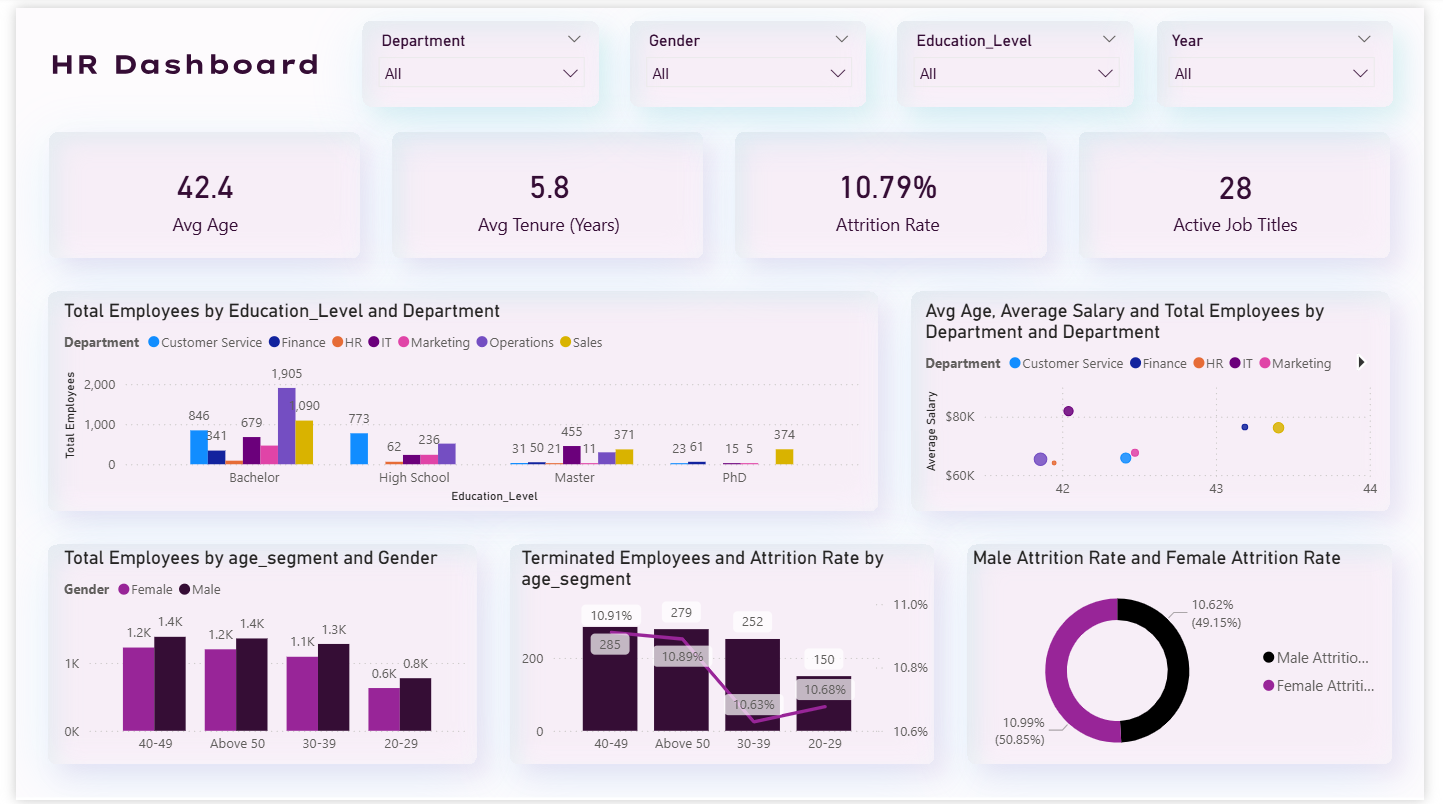

What the dashboard file says about the page in this screenshot:
{"tool":"powerbi","page":{"name":"Page 2","canvas":[1280,720],"ordinal":1},"visuals":[{"type":"clusteredColumnChart","fields":{"Category":["HR_dataset.age_segment"],"Y":["HR_dataset.Total Employees"],"Series":["HR_dataset.Gender"]},"box":[38.8,490,376.2,197.5],"z":0},{"type":"clusteredColumnChart","fields":{"Category":["HR_dataset.Education_Level"],"Y":["HR_dataset.Total Employees"],"Series":["HR_dataset.Department"]},"box":[38.8,265,736.2,190],"z":1000},{"type":"scatterChart","fields":{"Y":["HR_dataset.Average Salary"],"X":["HR_dataset.Avg Age"],"Size":["HR_dataset.Total Employees"],"Category":["HR_dataset.Department"],"Series":["HR_dataset.Department"]},"box":[821.2,265,421.2,190],"z":2000},{"type":"lineStackedColumnComboChart","fields":{"Category":["HR_dataset.age_segment"],"Y":["HR_dataset.Terminated Employees"],"Y2":["HR_dataset.Attrition Rate"]},"box":[455,490,380,197.5],"z":3000},{"type":"card","fields":{"Values":["HR_dataset.Avg Age"]},"box":[38.6,120.5,267,103.4],"z":3001},{"type":"card","fields":{"Values":["HR_dataset.Avg Tenure (Years)"]},"box":[351.1,120.5,267,103.4],"z":3002},{"type":"card","fields":{"Values":["HR_dataset.Attrition Rate"]},"box":[659.1,120.5,267,103.4],"z":3003},{"type":"card","fields":{"Values":["HR_dataset.Active Job Titles"]},"box":[975,120,267.5,103.8],"z":3004},{"type":"donutChart","fields":{"Y":["HR_dataset.Male Attrition Rate","HR_dataset.Female Attrition Rate"]},"box":[865,490,386.2,206.2],"z":3005},{"type":"slicer","fields":{"Values":["HR_dataset.Department"]},"box":[319.7,16.5,207.2,65.9],"z":3006},{"type":"slicer","fields":{"Values":["HR_dataset.Gender"]},"box":[562.6,16.5,207.2,65.9],"z":3007},{"type":"slicer","fields":{"Values":["HR_dataset.Education_Level"]},"box":[805.5,16.5,207.2,65.9],"z":3008},{"type":"slicer","fields":{"Values":["HR_dataset.Hiredate.Variation.Date Hierarchy.Year"]},"box":[1037.4,16.5,207.2,65.9],"z":3009}]}

Visuals, with their boxes in screenshot pixels (x1, y1, x2, y2), scaled from the page's 1280x720 canvas onto the 1443x804 screenshot:
clusteredColumnChart - HR_dataset.age_segment x HR_dataset.Total Employees: {"x1": 44, "y1": 547, "x2": 468, "y2": 768}
clusteredColumnChart - HR_dataset.Education_Level x HR_dataset.Total Employees: {"x1": 44, "y1": 296, "x2": 874, "y2": 508}
scatterChart - HR_dataset.Average Salary x HR_dataset.Avg Age: {"x1": 926, "y1": 296, "x2": 1401, "y2": 508}
lineStackedColumnComboChart - HR_dataset.age_segment x HR_dataset.Terminated Employees: {"x1": 513, "y1": 547, "x2": 941, "y2": 768}
card - HR_dataset.Avg Age: {"x1": 44, "y1": 135, "x2": 345, "y2": 250}
card - HR_dataset.Avg Tenure (Years): {"x1": 396, "y1": 135, "x2": 697, "y2": 250}
card - HR_dataset.Attrition Rate: {"x1": 743, "y1": 135, "x2": 1044, "y2": 250}
card - HR_dataset.Active Job Titles: {"x1": 1099, "y1": 134, "x2": 1401, "y2": 250}
donutChart - HR_dataset.Male Attrition Rate x HR_dataset.Female Attrition Rate: {"x1": 975, "y1": 547, "x2": 1411, "y2": 777}
slicer - HR_dataset.Department: {"x1": 360, "y1": 18, "x2": 594, "y2": 92}
slicer - HR_dataset.Gender: {"x1": 634, "y1": 18, "x2": 868, "y2": 92}
slicer - HR_dataset.Education_Level: {"x1": 908, "y1": 18, "x2": 1142, "y2": 92}
slicer - HR_dataset.Hiredate.Variation.Date Hierarchy.Year: {"x1": 1170, "y1": 18, "x2": 1403, "y2": 92}
